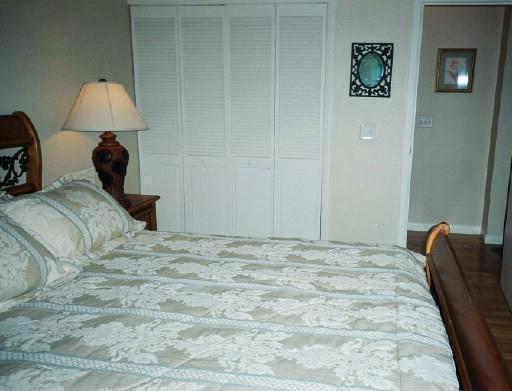Armario: (142, 4, 330, 231)
